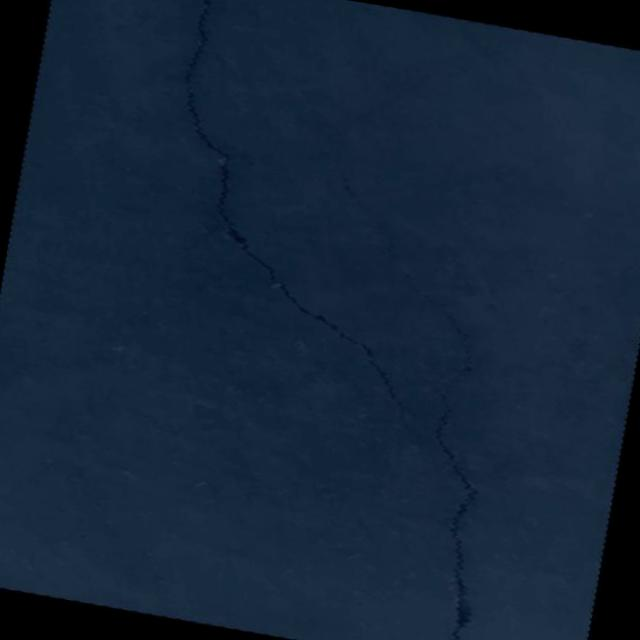crack: (231, 57, 564, 640), (101, 0, 484, 470)
